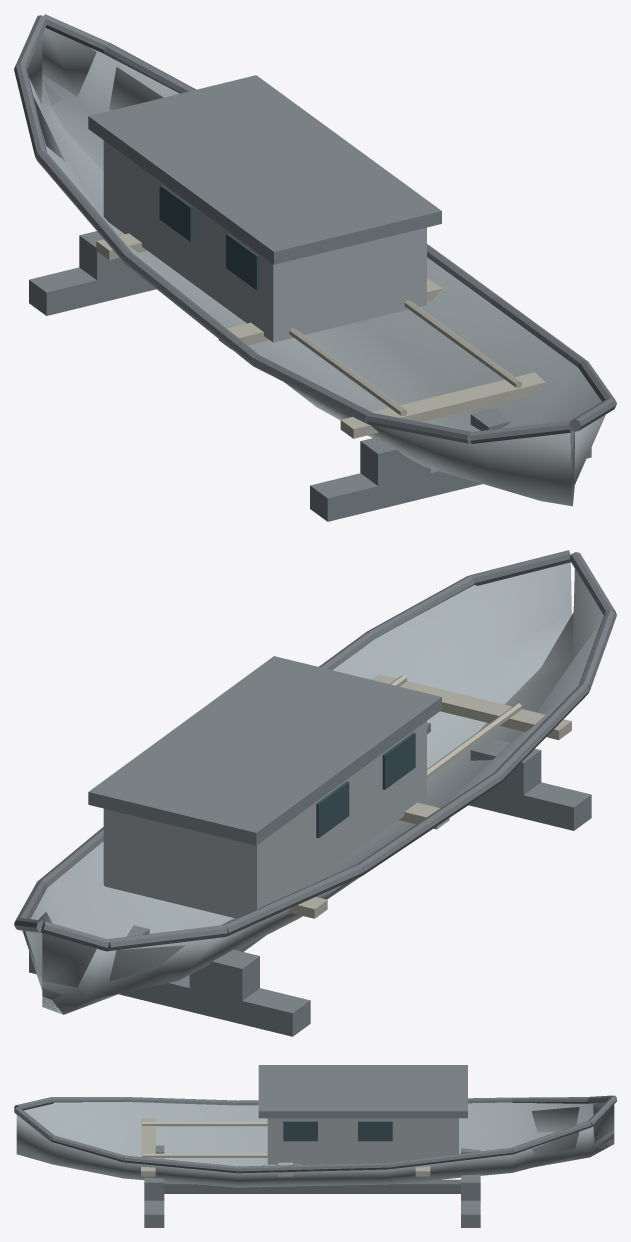
3 renders of one model, top to bottom at view 1: azimuth 30°, elevation 25°; view 2: azimuth 150°, elevation 25°; view 3: azimuth 270°, elevation 25°, orthographic. The views are drawn at different scales.
Parts seen in each view (by area): view 1: component.root.mesh; view 2: component.root.mesh; view 3: component.root.mesh.
Boxes of the visible parts, box(x1,y1,x2,y2) form: component.root.mesh: box(14, 14, 616, 521); component.root.mesh: box(14, 550, 616, 1036); component.root.mesh: box(14, 1065, 616, 1227).
Bounding box in the file's own units: 2.59 × 1.72 × 9.08.
